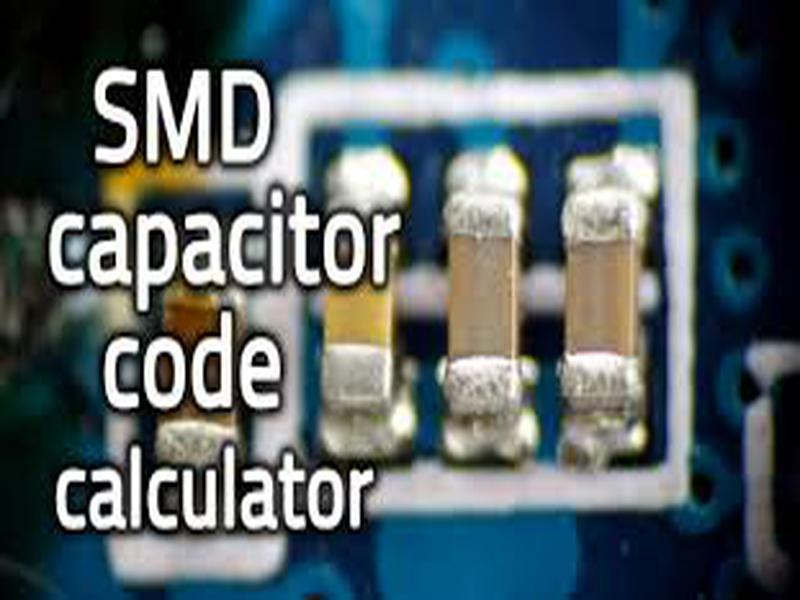SMD capacitor: (555, 189, 647, 410), (442, 192, 519, 414)
